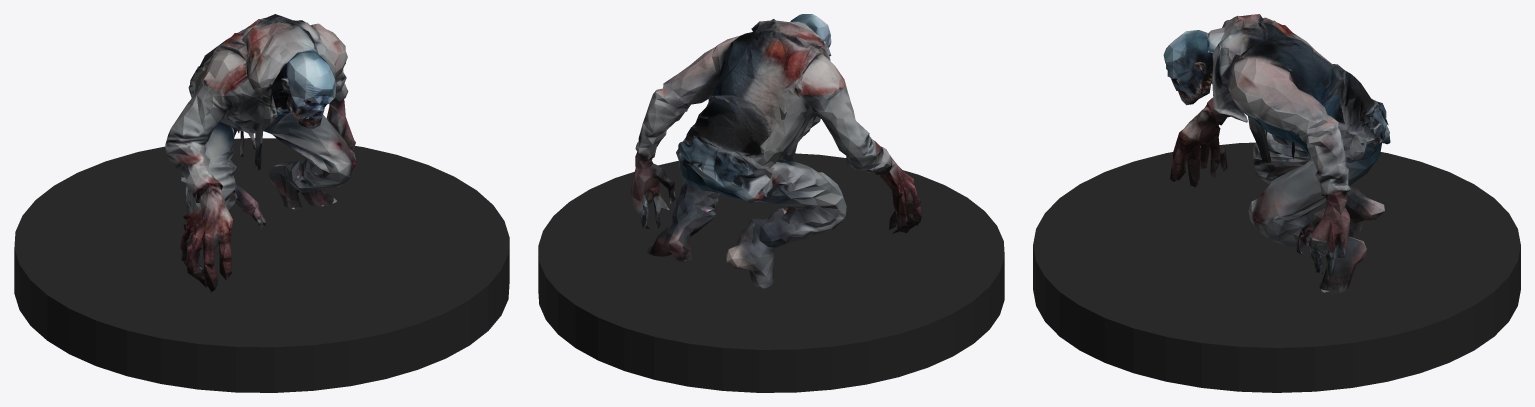
The model's file is zombie-crawler.glb.
3 views of the same model, side by side, from view 1: azimuth 30°, elevation 25°; view 2: azimuth 150°, elevation 25°; view 3: azimuth 270°, elevation 25° (orthographic). The views are drawn at different scales.
Visible parts, largest first — view 1: base, figure; view 2: base, figure; view 3: base, figure.
Boxes of the visible parts, bbox=[...] form: base: bbox=[14, 138, 509, 392]; figure: bbox=[165, 14, 355, 292]; base: bbox=[538, 153, 1004, 392]; figure: bbox=[631, 14, 921, 288]; base: bbox=[1033, 142, 1520, 392]; figure: bbox=[1163, 14, 1390, 293].
Bounding box in the file's own units: 1.18 × 0.72 × 1.18.
Materials: 2 (1 with a texture image).
